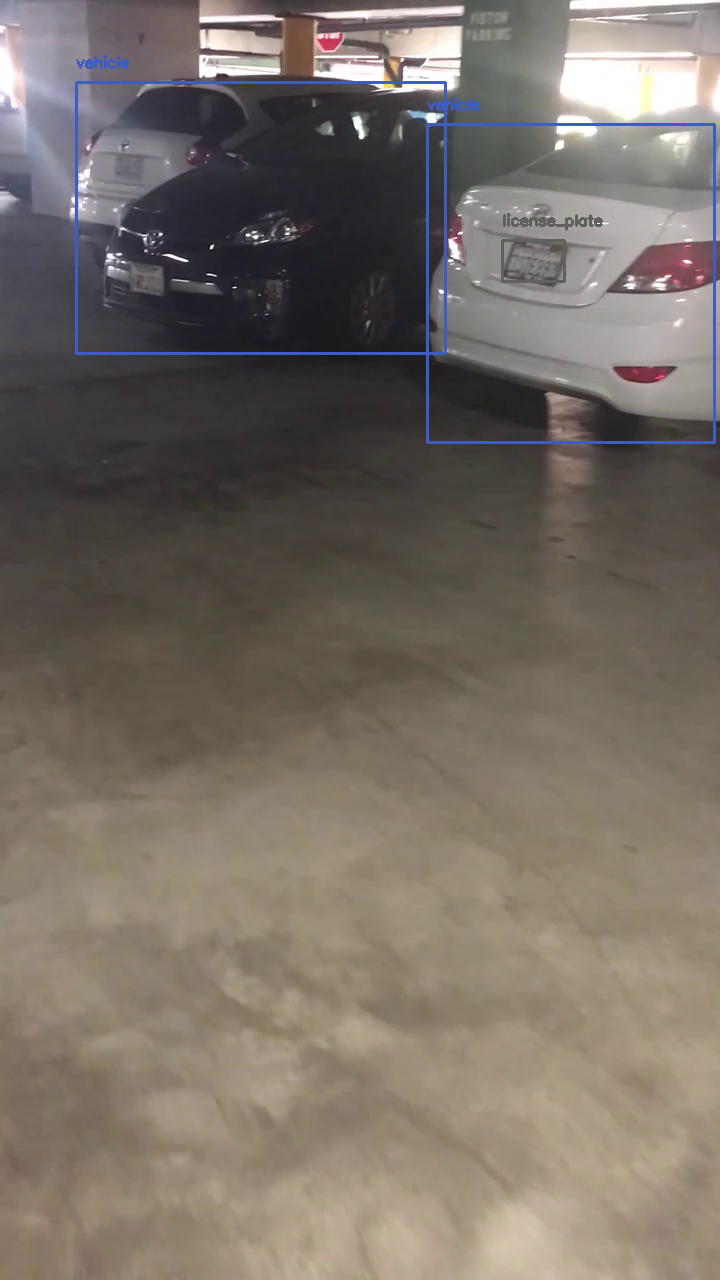license_plate: (502, 240, 564, 281)
vehicle: (76, 82, 445, 353), (427, 124, 714, 442)
